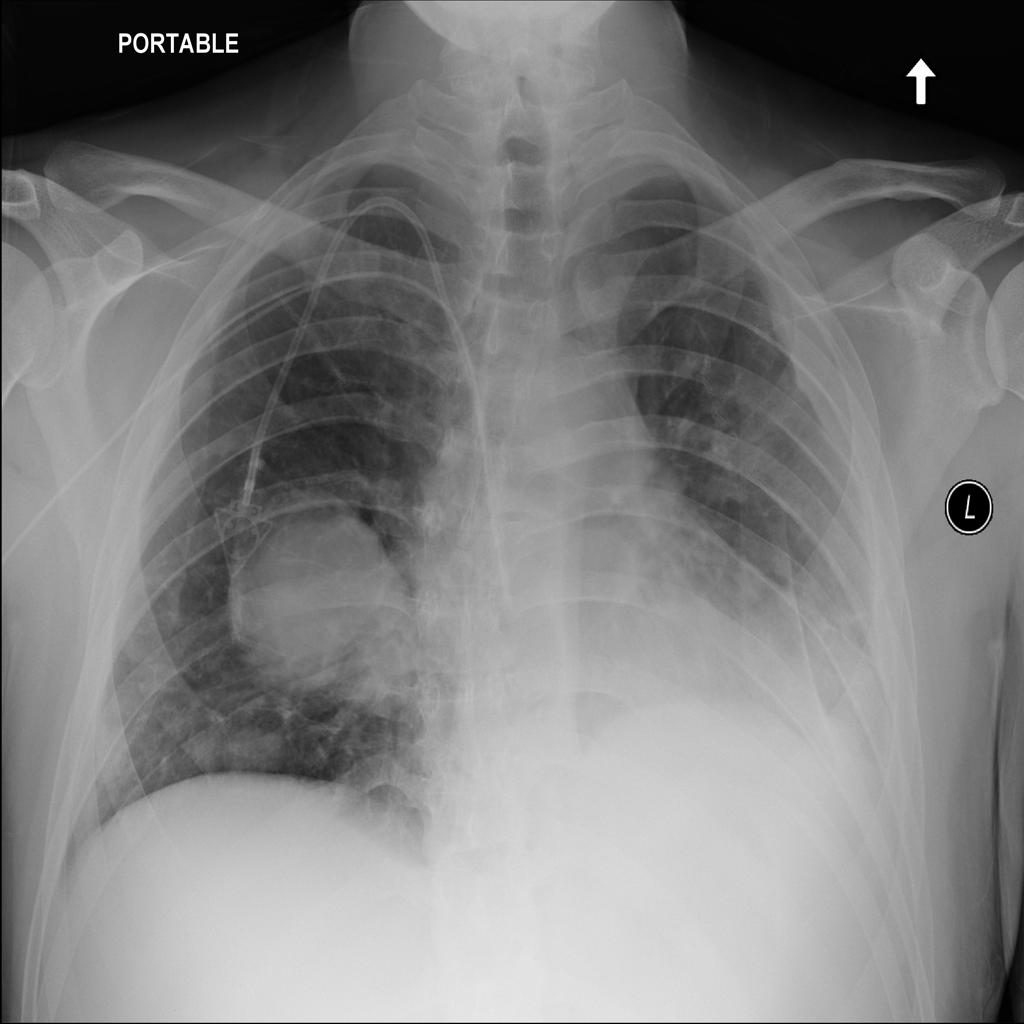nodule: (216, 494, 428, 701), (210, 714, 303, 784)
